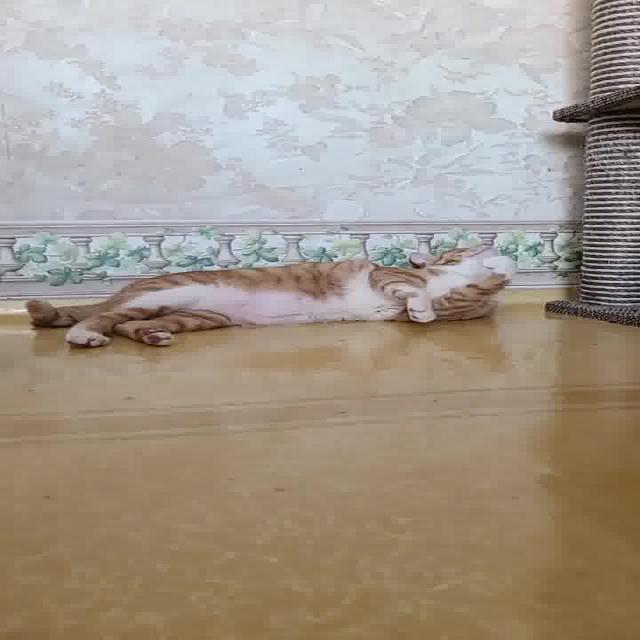cat: (22, 242, 526, 352)
